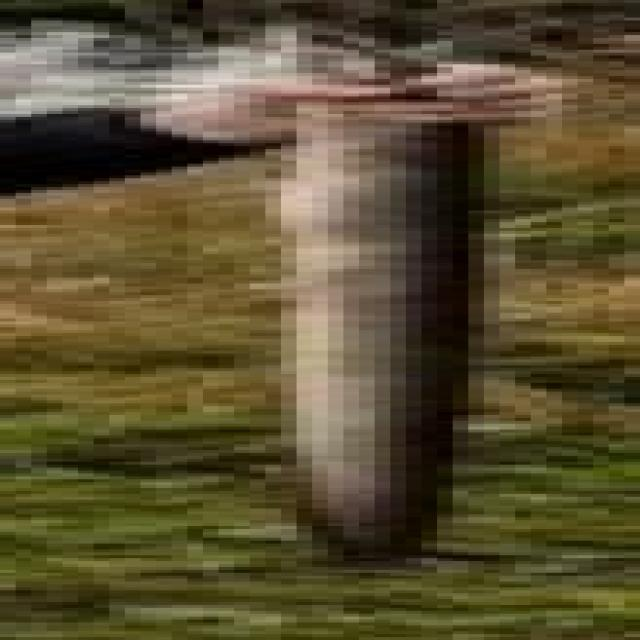Freshwater-Eel: (165, 22, 597, 612)
